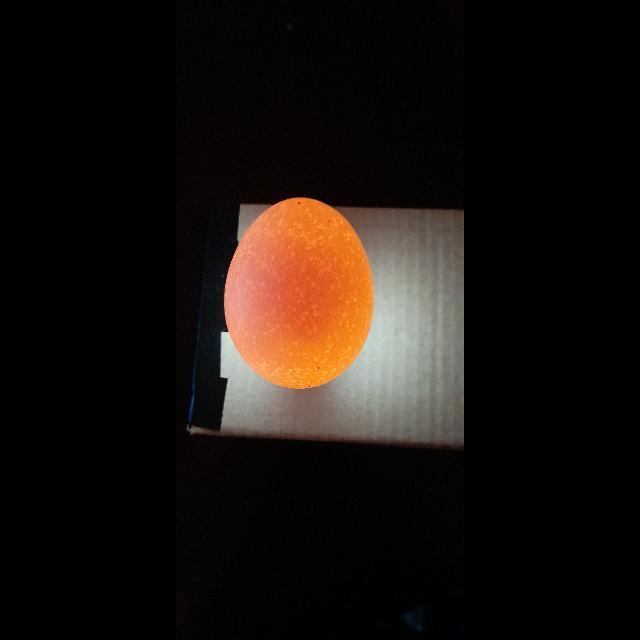Fertile: (228, 200, 366, 394)
